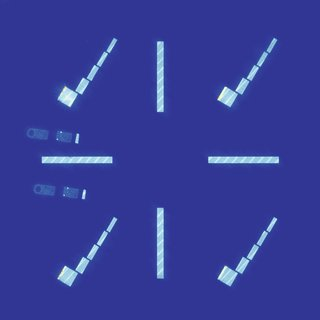overheated: (60, 86, 67, 96), (58, 269, 64, 280), (222, 264, 228, 273), (217, 92, 222, 100)
